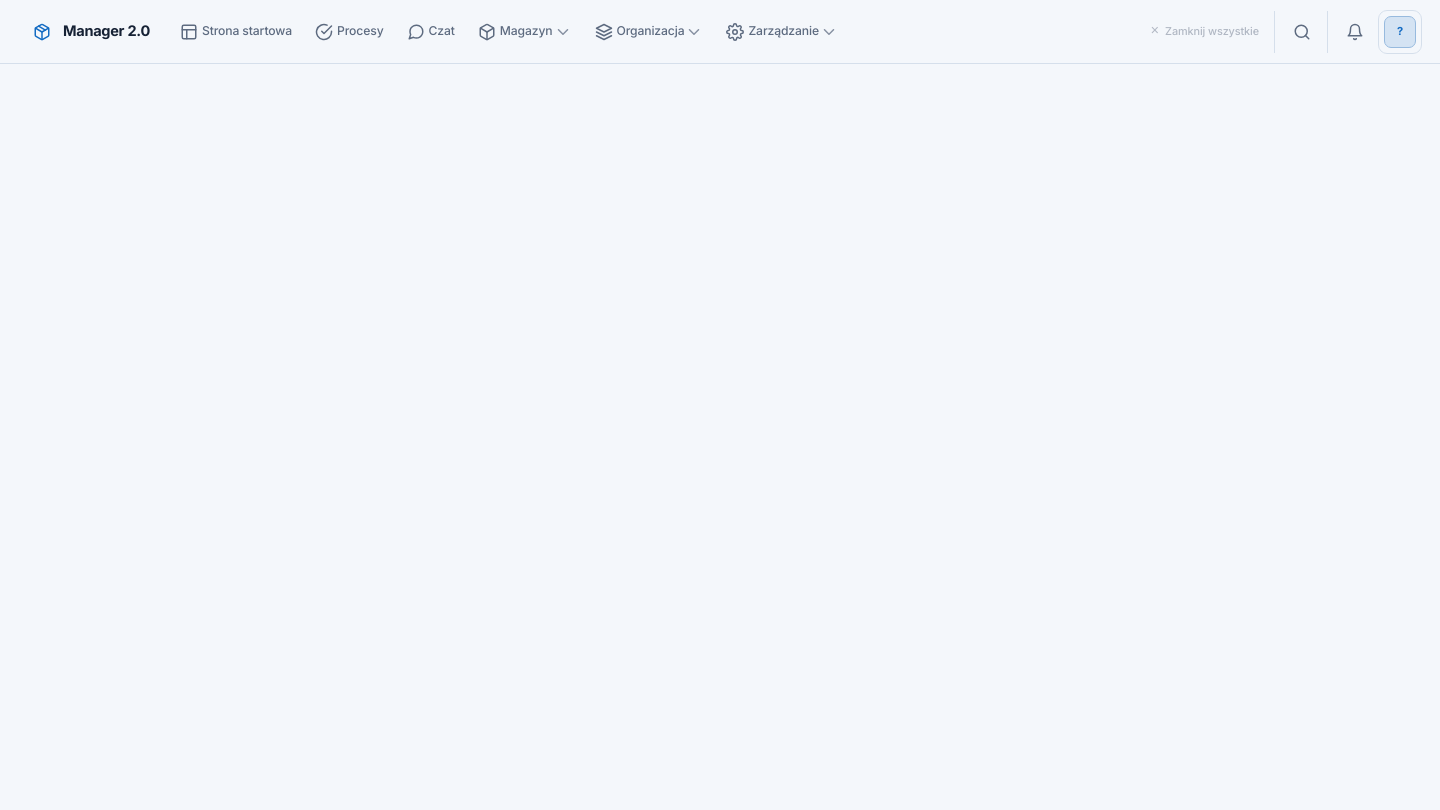
Test: Navbar warehouse menu › lists pallet screens in the main navigation panel
Click the button with aria-label "Główna nawigacja": (89, 32) [18,10,161,52]
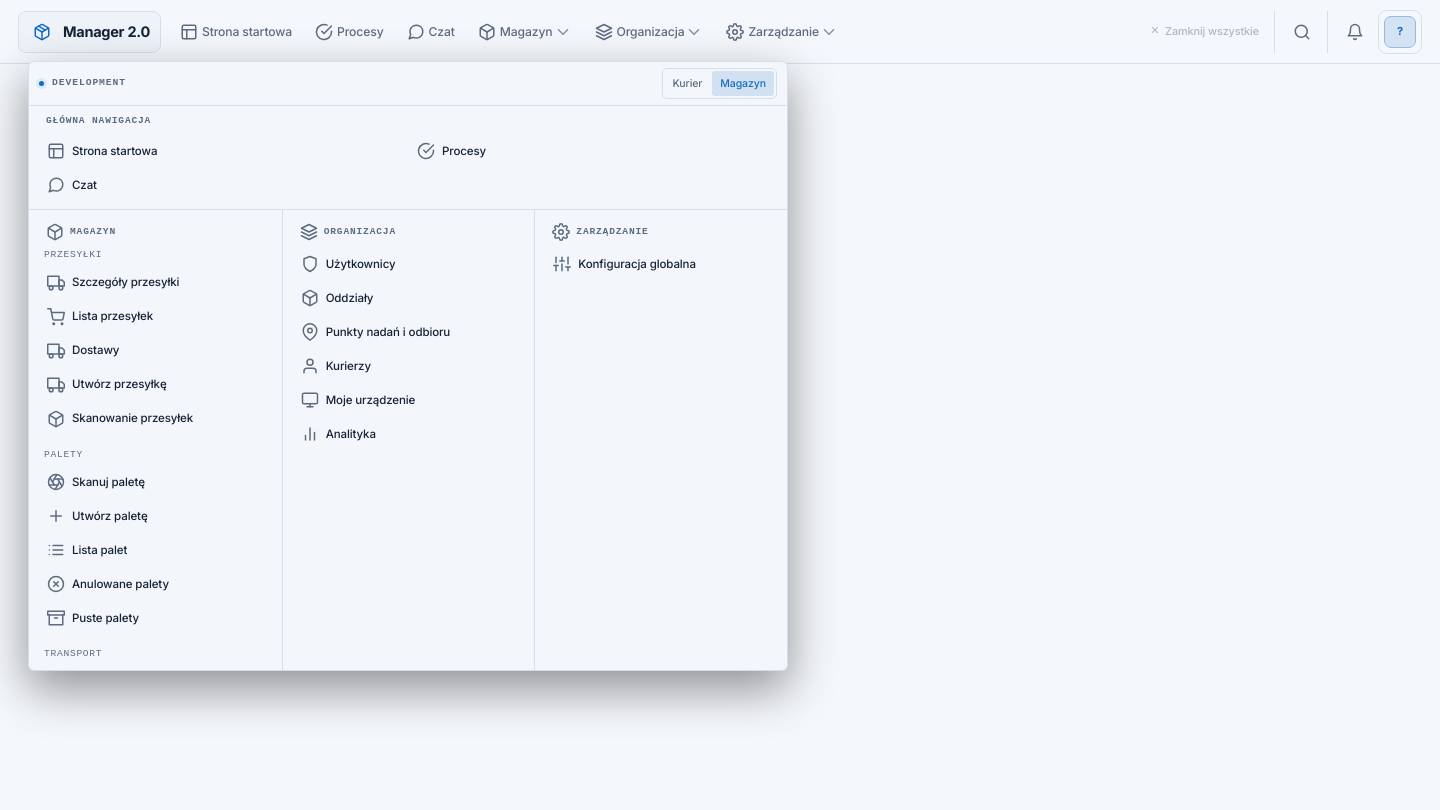
Check: the button "Utwórz paletę" is shown, box [39,500,272,532]
Check: the button "Puste palety" is shown, box [39,602,272,634]
